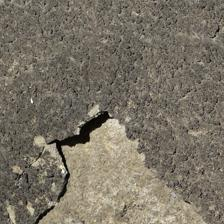Crack: (2, 49, 111, 158), (22, 40, 132, 142)
